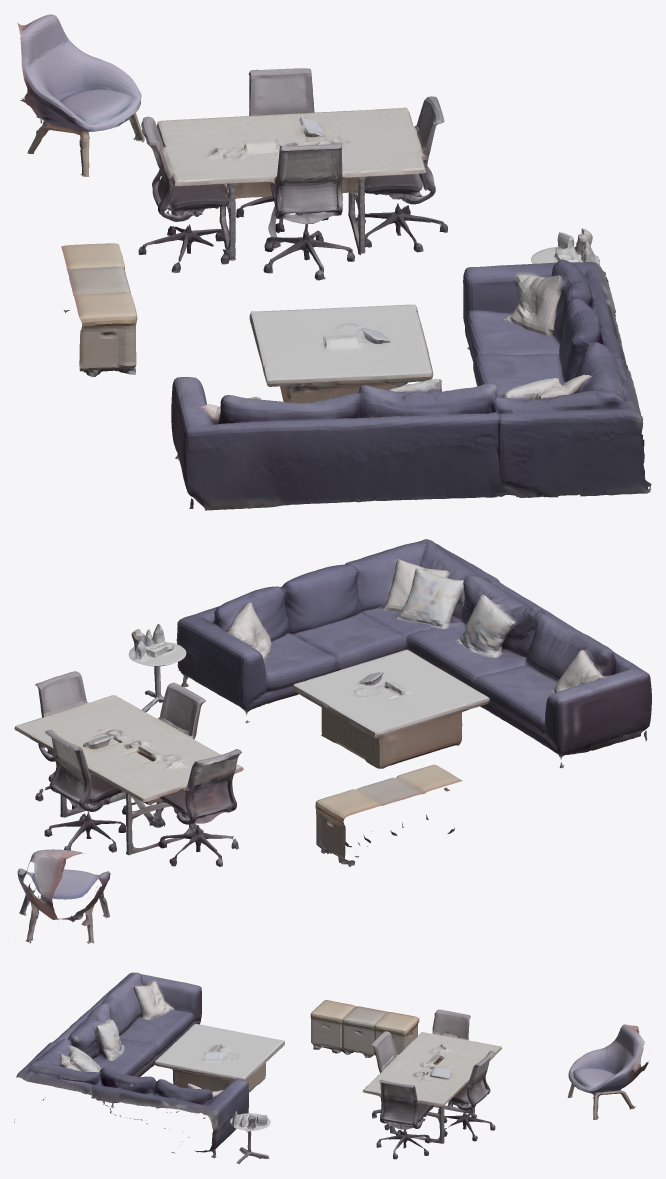
3 views of the same model, one above another, from view 1: azimuth 30°, elevation 25°; view 2: azimuth 150°, elevation 25°; view 3: azimuth 270°, elevation 25° (orthographic). The views are drawn at different scales.
Parts seen in each view (by area): view 1: obj_1.ply; view 2: obj_1.ply; view 3: obj_1.ply.
Boxes of the visible parts, <box> form: obj_1.ply: <box>17,14,651,510</box>; obj_1.ply: <box>14,539,651,943</box>; obj_1.ply: <box>14,972,649,1164</box>.
Size of the model in its own units: 4.27 by 1.06 by 7.78.
